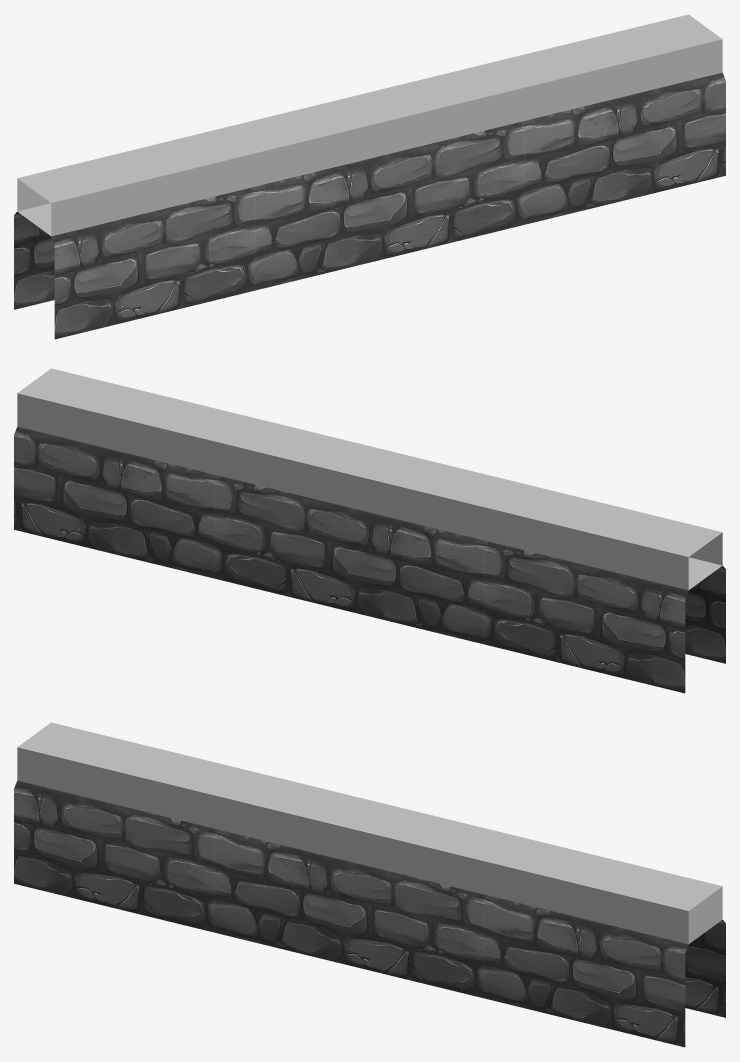
The model's file is MOD_cut_rock_wall_01.fbx.
The picture shows the model from 3 angles, top to bottom: view 1: azimuth 30°, elevation 25°; view 2: azimuth 150°, elevation 25°; view 3: azimuth 330°, elevation 25°; orthographic projection.
Parts seen in each view (by area): view 1: cut_rock_wall_01; view 2: cut_rock_wall_01; view 3: cut_rock_wall_01.
Boxes of the visible parts, x1,y1,x2,y2 form: cut_rock_wall_01: (14, 14, 725, 339); cut_rock_wall_01: (14, 368, 725, 693); cut_rock_wall_01: (14, 722, 725, 1047).
Bounding box in the file's own units: 217 × 22.62 × 41.3.
